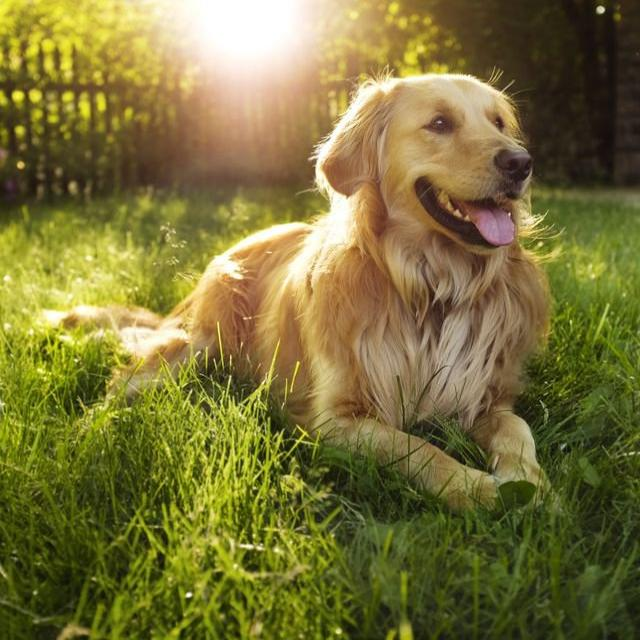Dog: (81, 65, 560, 521)
